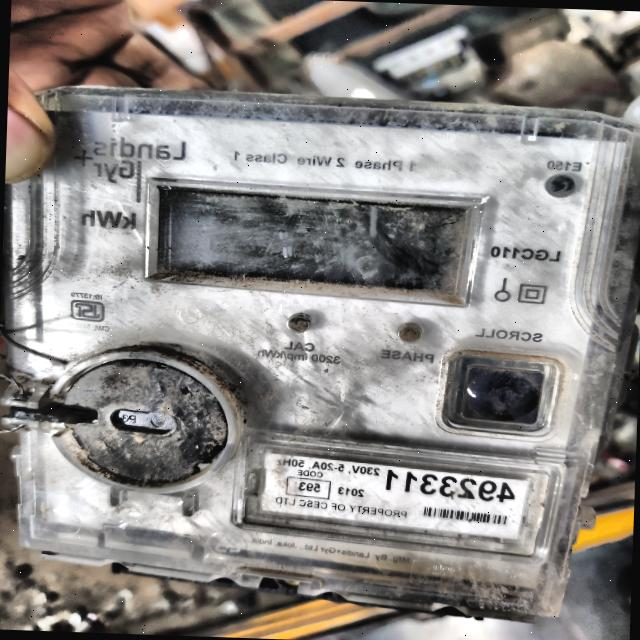Digital: (15, 93, 635, 622)
Reading: (160, 198, 464, 280)
Serial No.: (381, 467, 516, 508)
